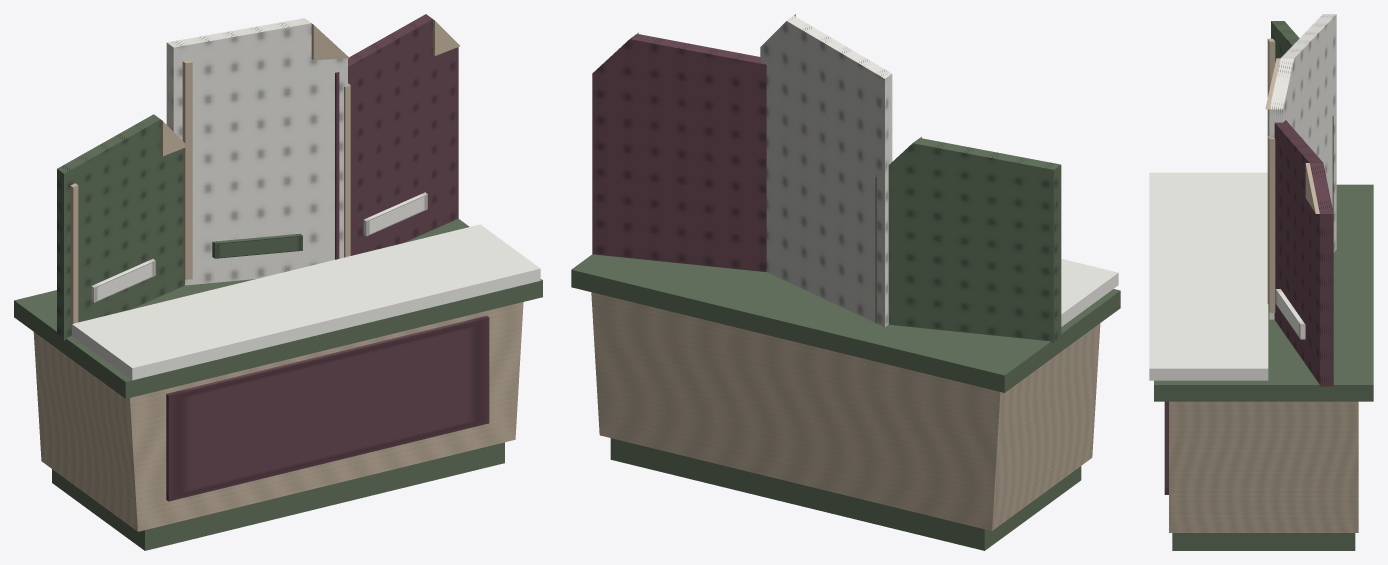
File: s04-patch-folio-low.glb
The picture shows the model from 3 angles, left to right: view 1: azimuth 30°, elevation 25°; view 2: azimuth 150°, elevation 25°; view 3: azimuth 270°, elevation 25°; orthographic projection. The views are drawn at different scales.
Parts seen in each view (by area): view 1: Ash counter, Porcelain centre leaf, Sample ledge, Plum outer leaf, Sage outer leaf; view 2: Ash counter, Plum outer leaf, Porcelain centre leaf, Sage outer leaf, Sample ledge; view 3: Ash counter, Sample ledge, Plum outer leaf, Porcelain centre leaf, Sage outer leaf.
Boxes of the visible parts, left/top/right/bottom form: Ash counter: left=14, top=218, right=542, bottom=550; Porcelain centre leaf: left=166, top=18, right=349, bottom=285; Sample ledge: left=72, top=224, right=540, bottom=380; Plum outer leaf: left=335, top=14, right=460, bottom=259; Sage outer leaf: left=57, top=114, right=185, bottom=340; Ash counter: left=571, top=254, right=1120, bottom=550; Plum outer leaf: left=592, top=32, right=766, bottom=271; Porcelain centre leaf: left=760, top=14, right=892, bottom=326; Sage outer leaf: left=875, top=136, right=1061, bottom=343; Sample ledge: left=1061, top=259, right=1118, bottom=326; Ash counter: left=1154, top=184, right=1373, bottom=550; Sample ledge: left=1149, top=172, right=1268, bottom=380; Plum outer leaf: left=1267, top=120, right=1333, bottom=386; Porcelain centre leaf: left=1265, top=14, right=1336, bottom=319; Sage outer leaf: left=1267, top=21, right=1333, bottom=212.
Size of the model in its own units: 2.38 by 2.35 by 1.12.
Materials: 1 (1 with a texture image).
